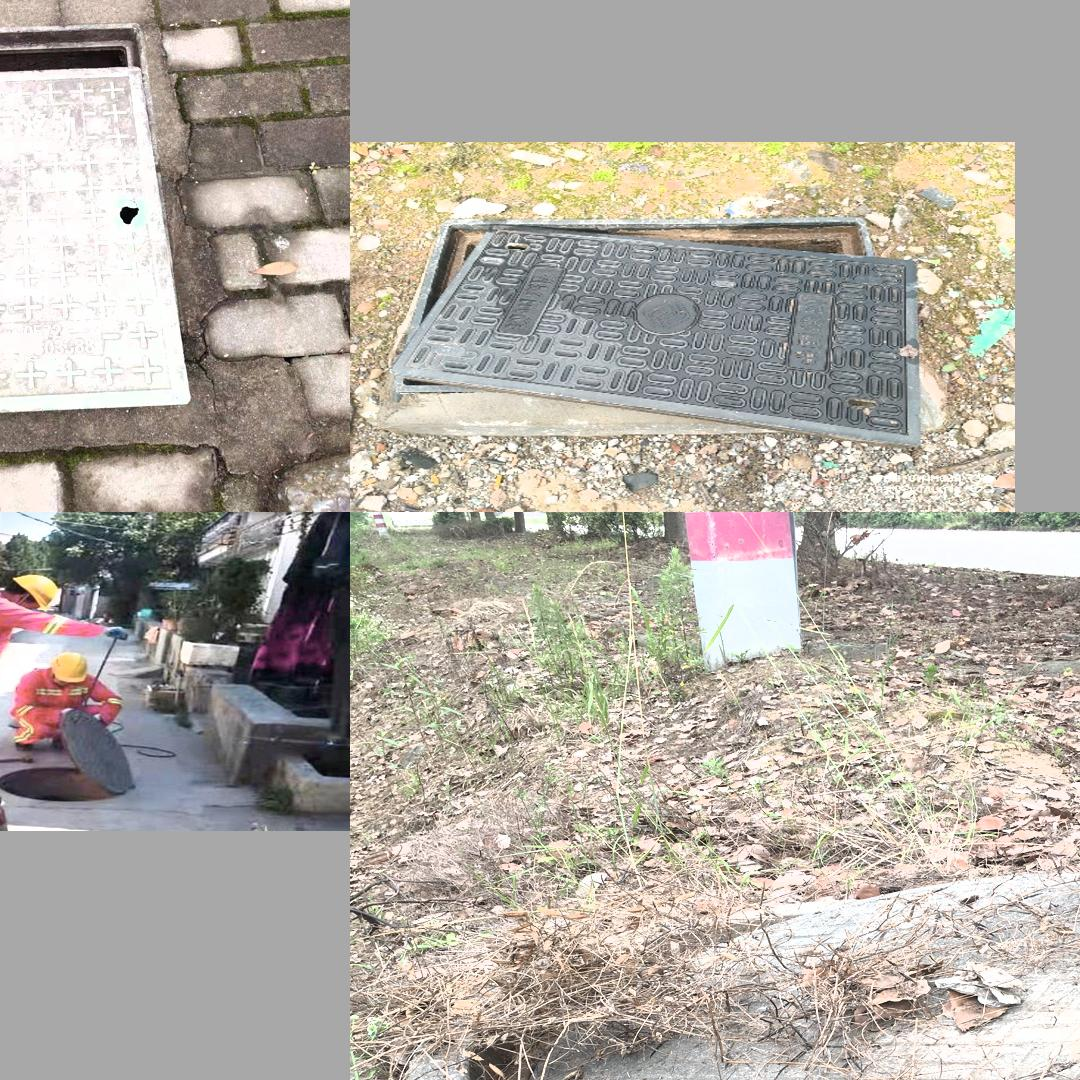uncovered: (402, 865, 1080, 1080), (394, 217, 920, 442), (0, 22, 190, 418), (0, 711, 152, 807)
